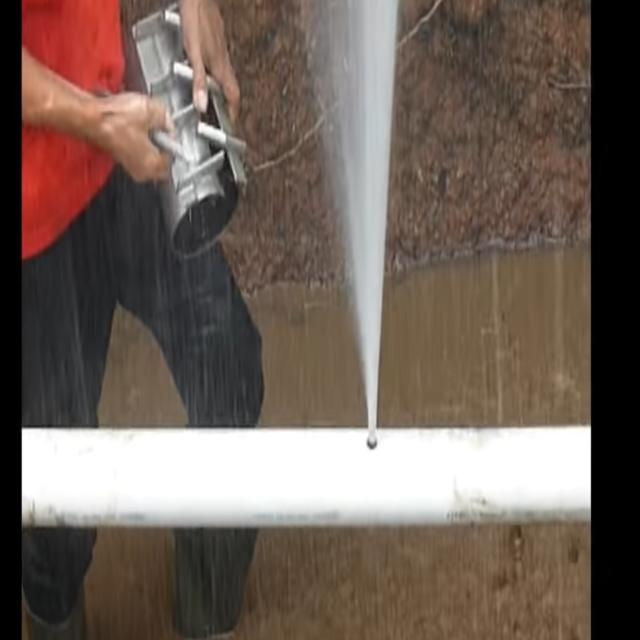leak: (338, 0, 398, 449)
